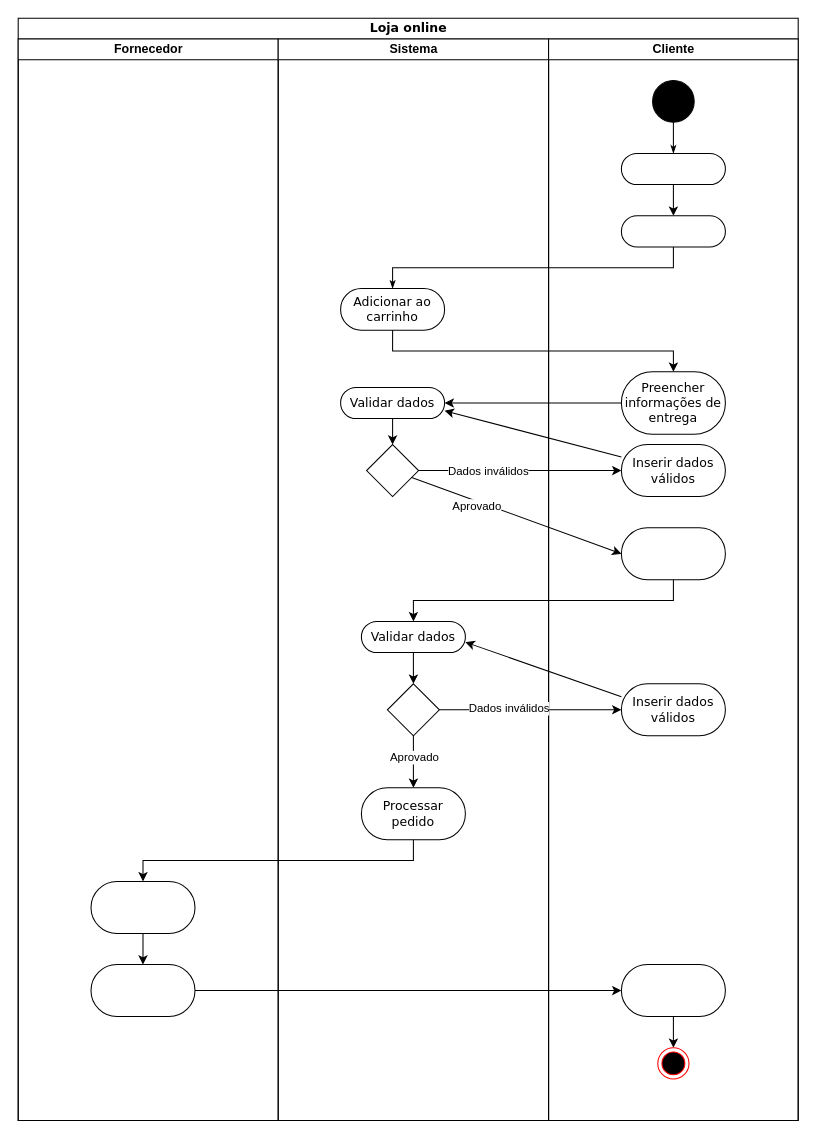
The diagram is 816 pixels wide and 1139 high, and some of its shapes have lost their labels. Each missing label, with the centre of its shape:
Confirmar recebimento: pixel 672 990
Enviar produto: pixel 142 990
Fazer Login: pixel 672 168
Preencher informações de pagamento: pixel 672 553
Preparar envio: pixel 142 906
Selecionar produto: pixel 672 231
